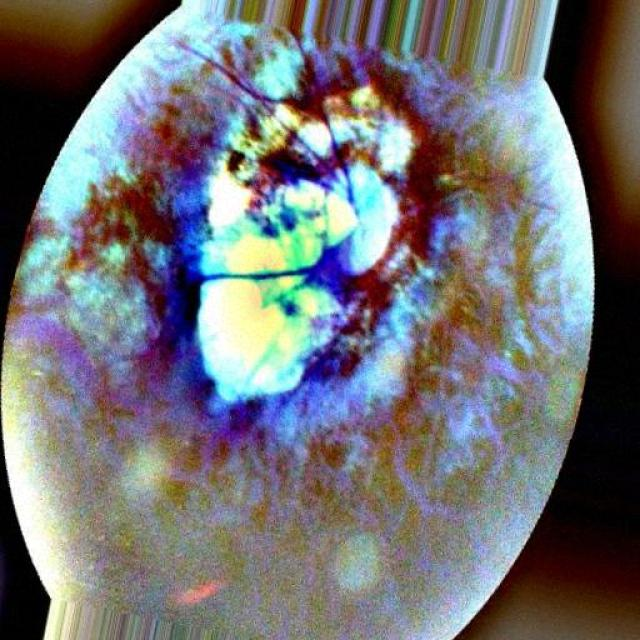Nerves: (176, 40, 354, 209), (185, 236, 350, 299)
Optic Disk: (195, 84, 415, 401)
